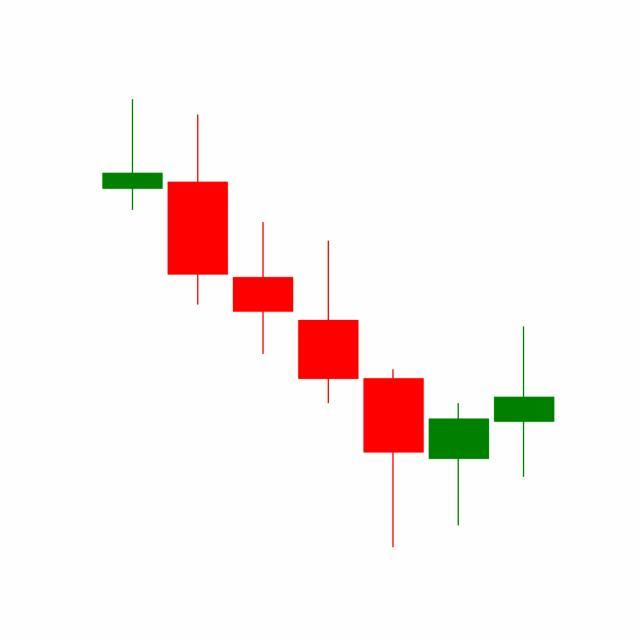Hikkake Pattern: (229, 218, 555, 549)
